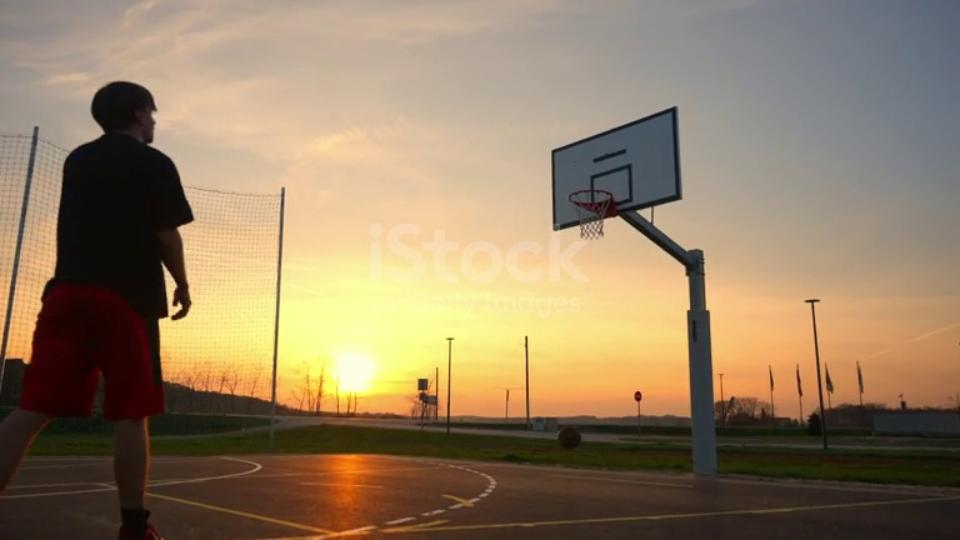hoop: (566, 189, 623, 215)
